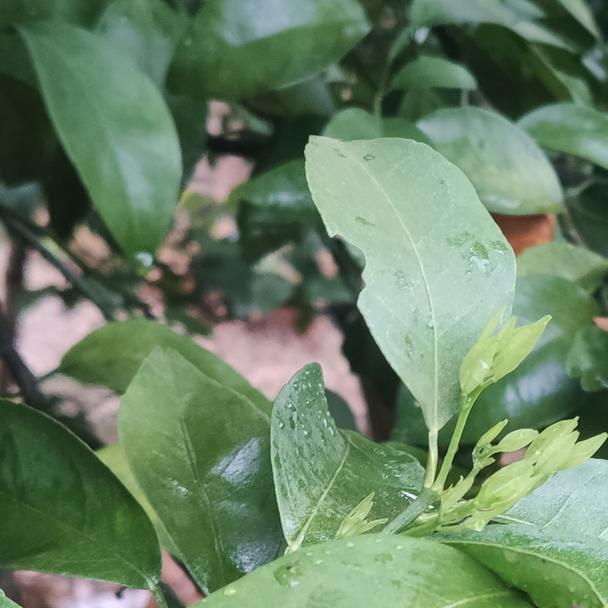shoot: (483, 420, 593, 524), (452, 296, 549, 404), (475, 416, 533, 481)
